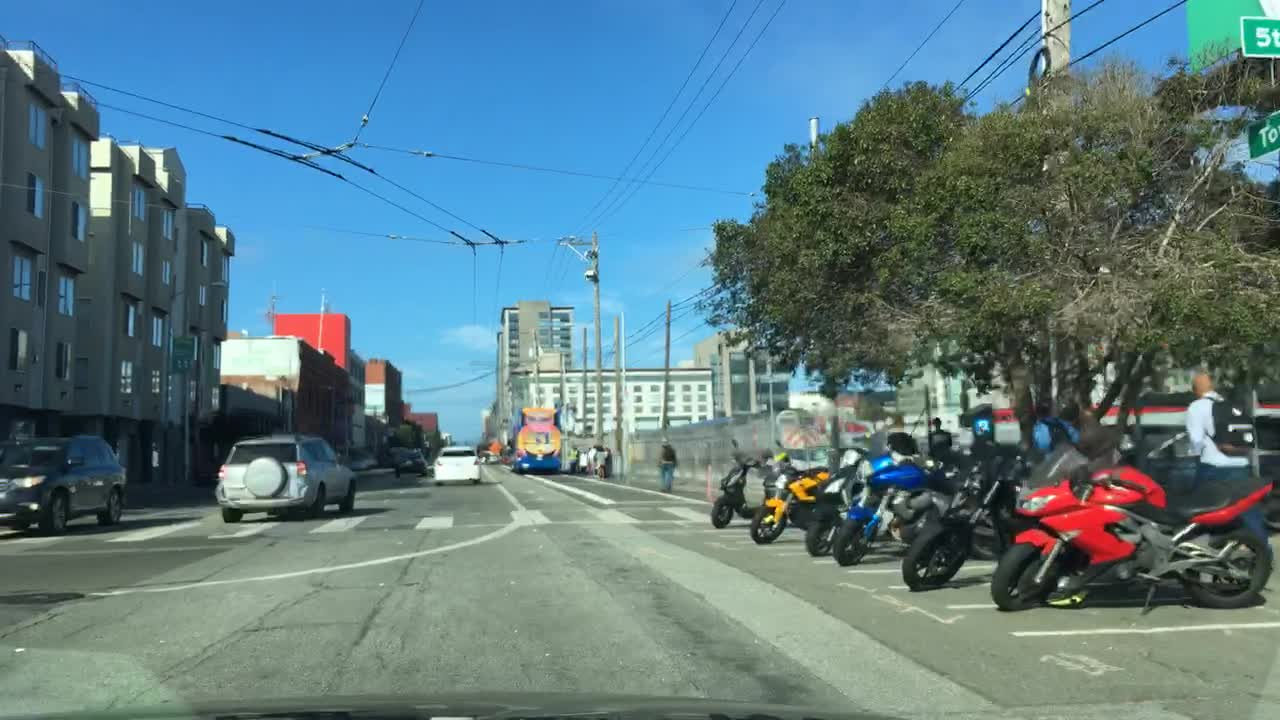car: (1136, 410, 1279, 531), (213, 428, 359, 523), (0, 430, 125, 537), (433, 445, 482, 486), (392, 445, 429, 478), (488, 454, 498, 463)
motor: (990, 453, 1276, 613), (900, 436, 1133, 598), (827, 453, 1042, 574), (804, 432, 971, 561), (748, 453, 865, 543), (709, 436, 808, 526)
person: (1183, 372, 1256, 501), (1073, 404, 1118, 462), (654, 437, 676, 493), (926, 415, 952, 459), (595, 442, 608, 480), (585, 444, 598, 477), (567, 446, 579, 475), (605, 447, 612, 480), (579, 449, 587, 476)
traffic sign: (1240, 15, 1278, 62), (1247, 111, 1279, 162), (172, 336, 194, 370), (490, 440, 502, 452)
